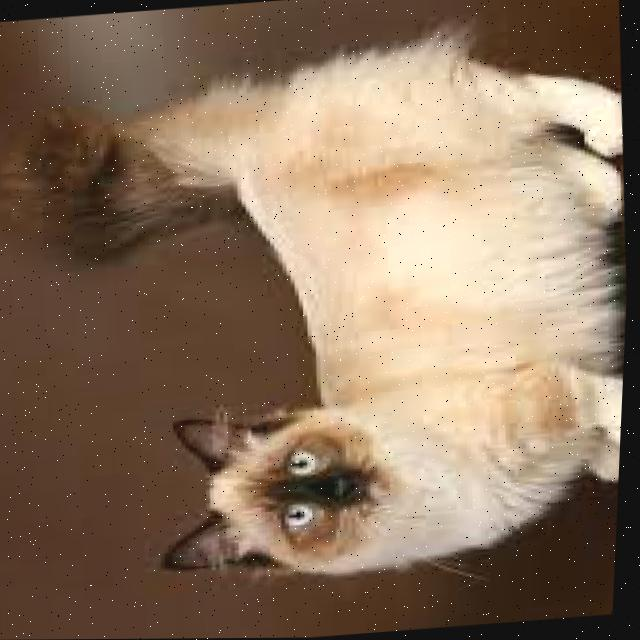Munchkin: (0, 13, 639, 607)
